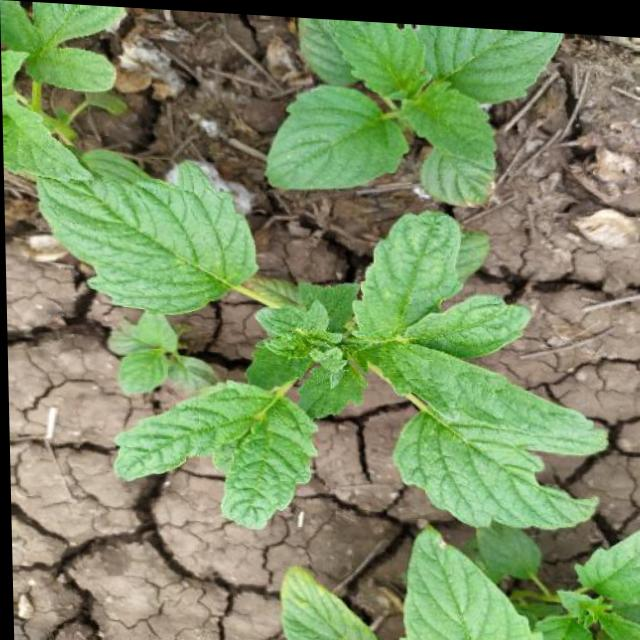crop: (23, 145, 618, 555), (219, 13, 611, 221)
